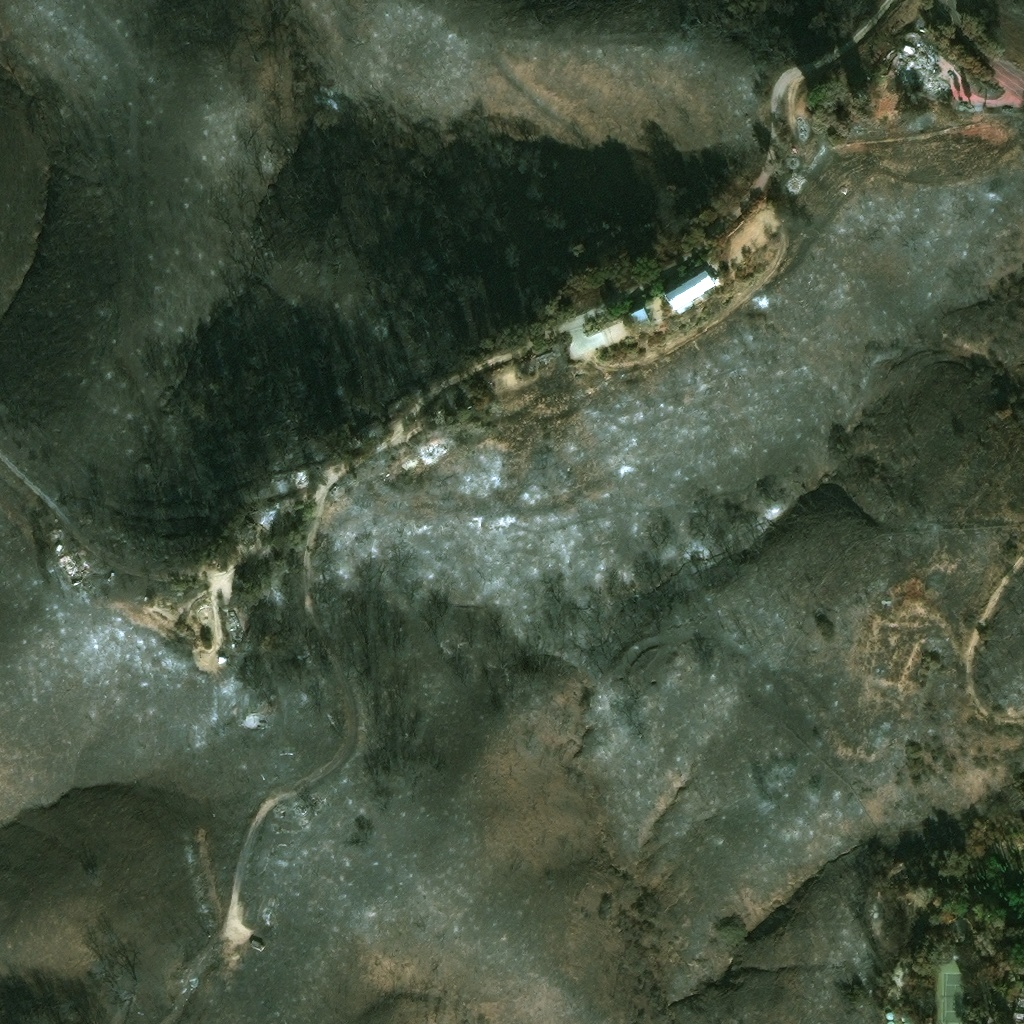0 no-damage: (661, 267, 719, 316)
1 minor-damage: (626, 304, 648, 325)
3 destroyed: (889, 48, 951, 93), (902, 27, 940, 59), (55, 547, 88, 583), (418, 438, 446, 460), (234, 522, 258, 545), (531, 342, 555, 362), (225, 608, 240, 639), (795, 116, 807, 139), (401, 451, 419, 466), (835, 93, 850, 109), (44, 526, 61, 540), (327, 483, 341, 498), (249, 936, 264, 949), (274, 800, 286, 814), (51, 540, 63, 552), (82, 579, 93, 589), (788, 154, 797, 166), (348, 434, 359, 443), (218, 654, 226, 662)
4 un-classified: (1010, 993, 1023, 1023), (883, 1009, 895, 1023), (899, 1011, 910, 1023)
